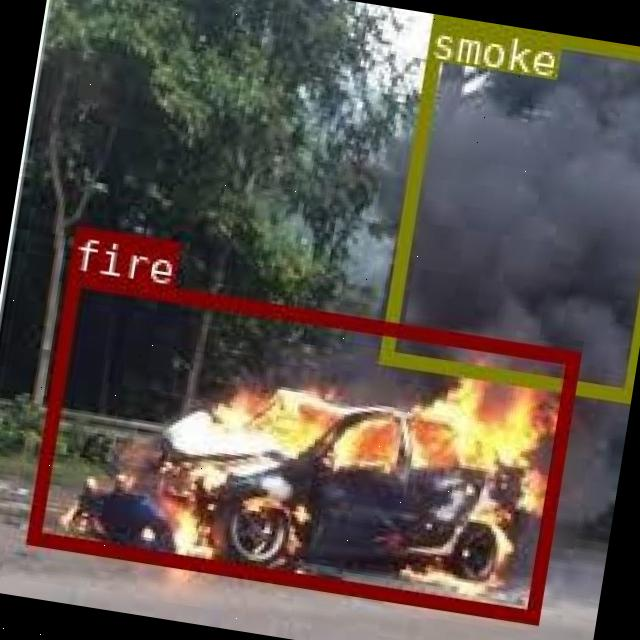fire: (25, 269, 578, 621)
smoke: (377, 13, 640, 398)
